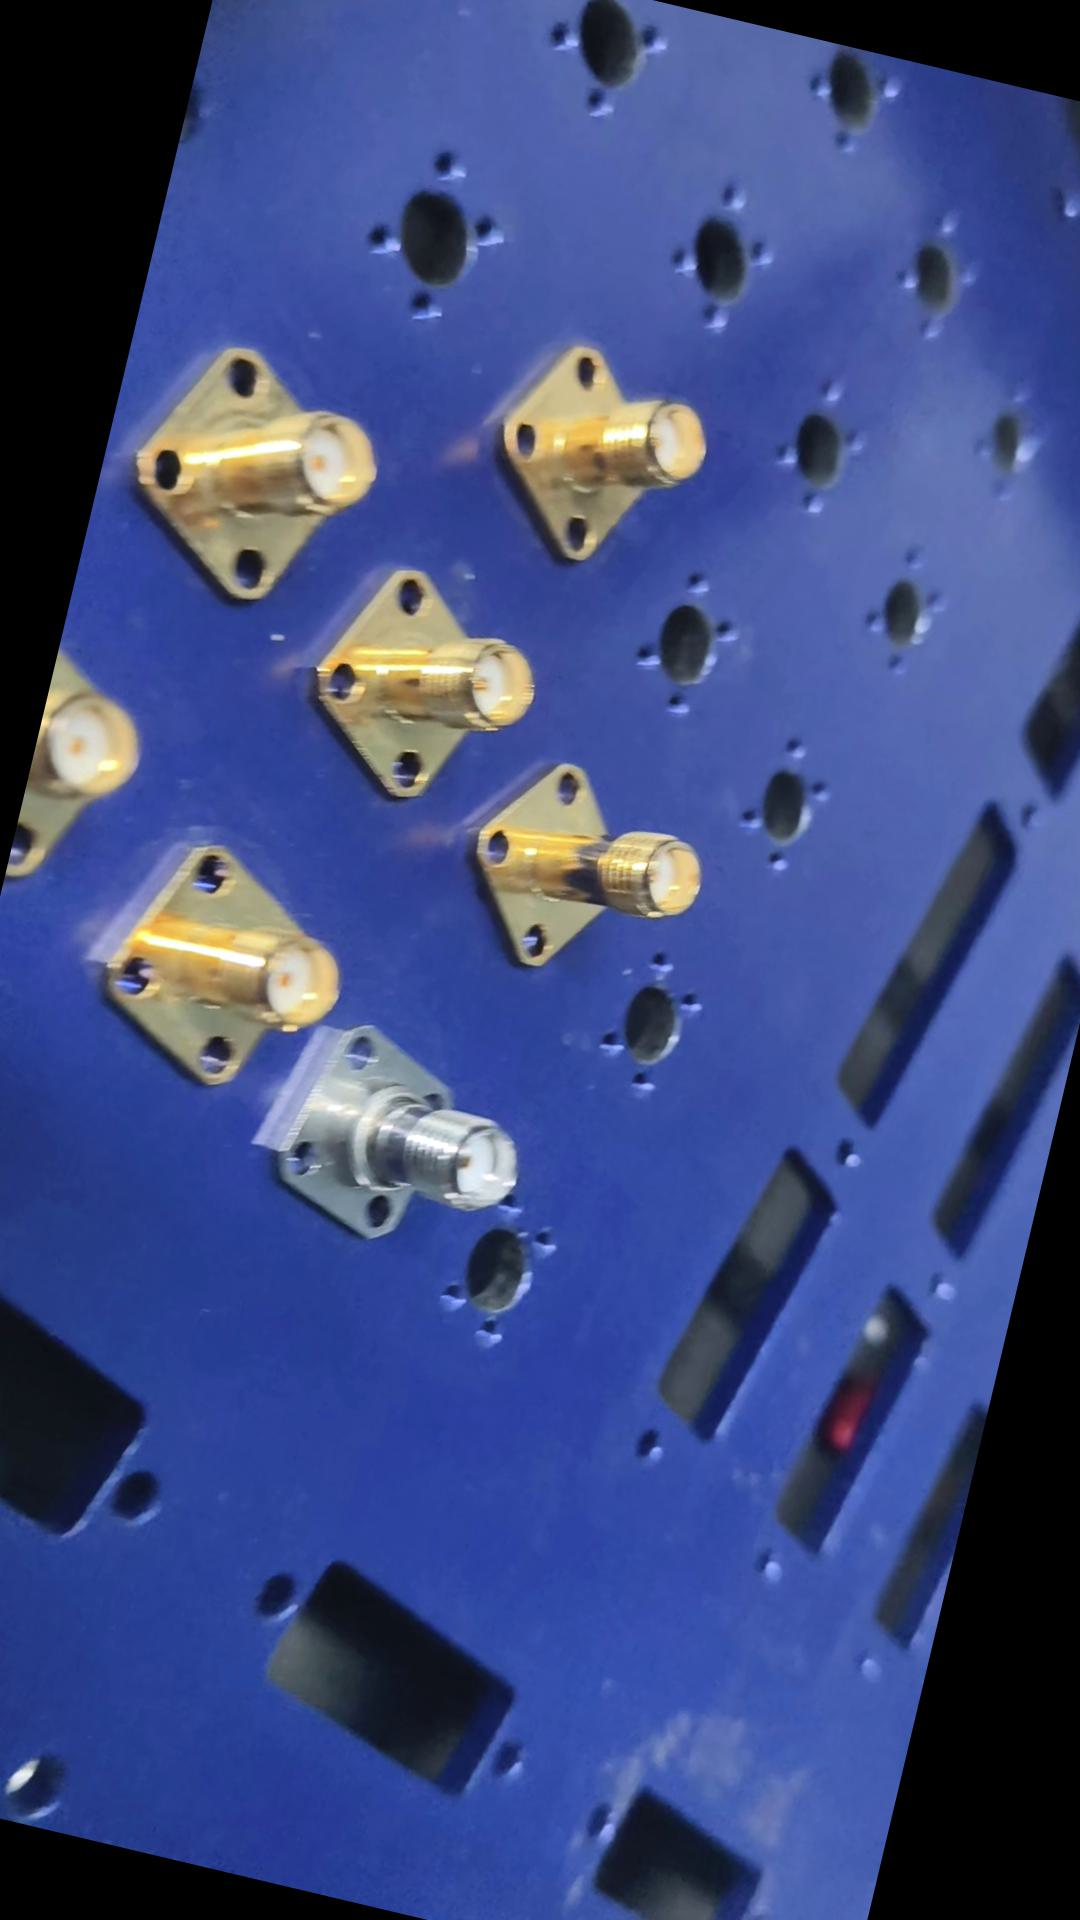SMA: (113, 326, 410, 629), (249, 982, 553, 1270), (90, 824, 375, 1127), (454, 712, 727, 1005), (473, 307, 733, 589), (295, 551, 558, 825)
